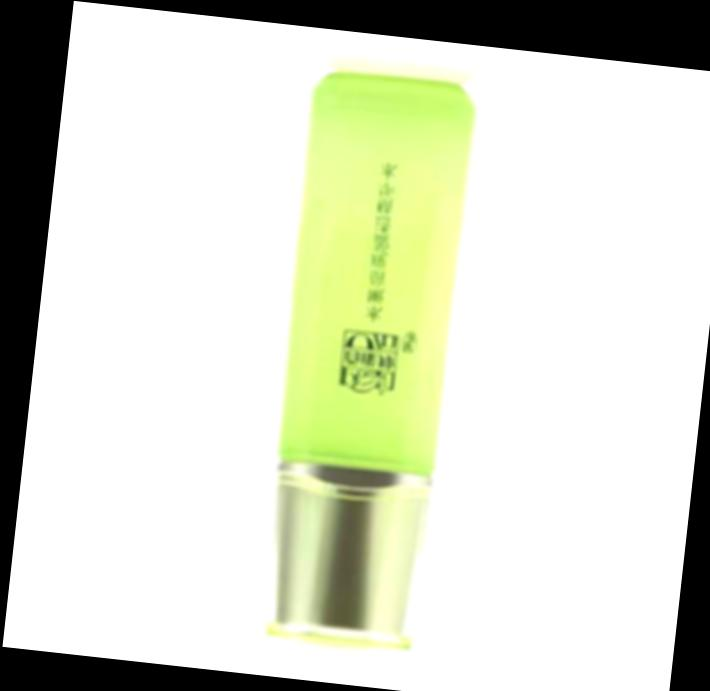cosmetic: (257, 82, 480, 657)
